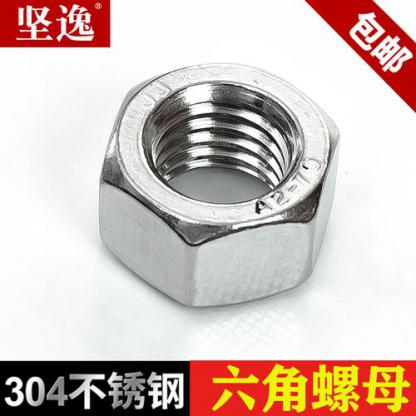FOD: (94, 60, 342, 310)
